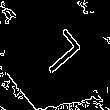L_SW: (27, 27, 83, 83)
